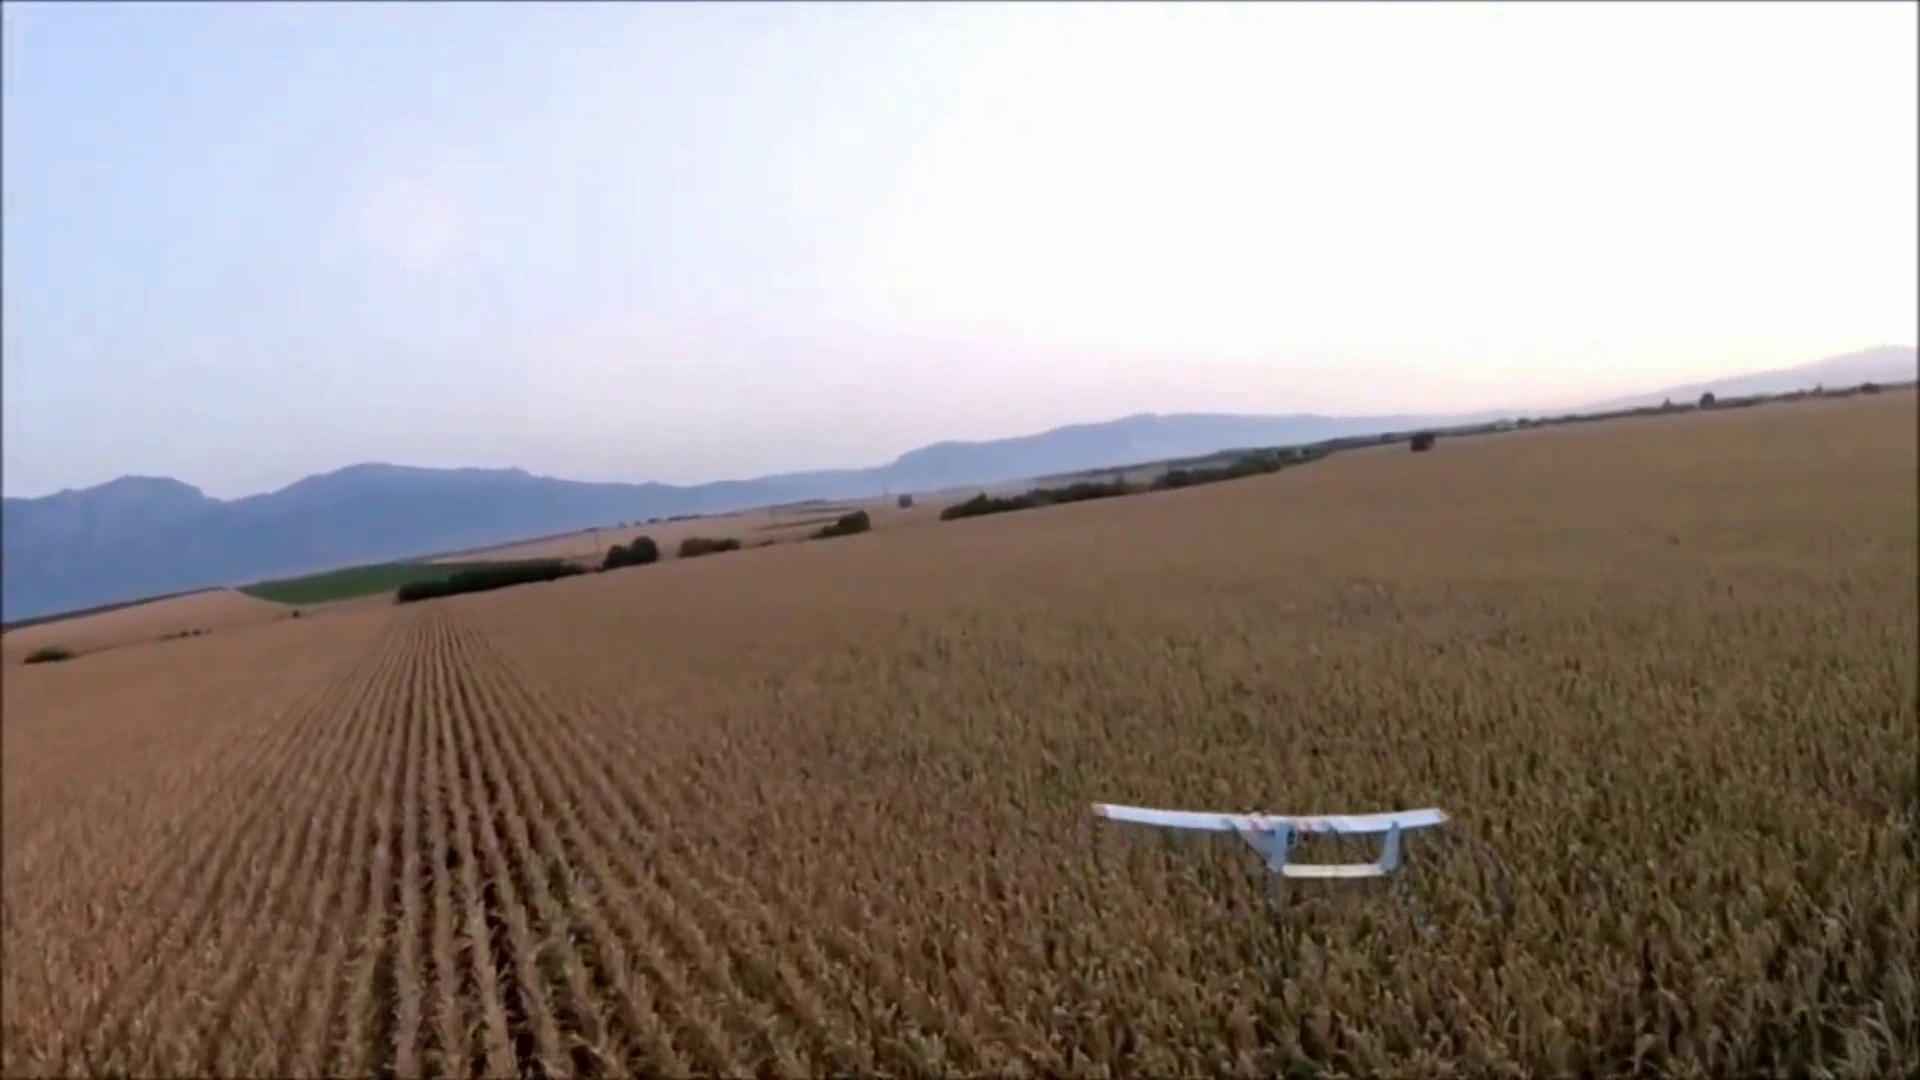airplane: (1093, 802, 1447, 881)
